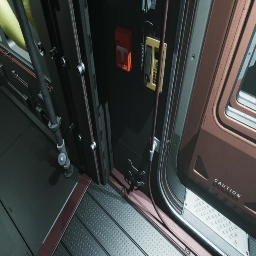EmergencyPhone ,: (140, 21, 168, 94)
FireAlarm ,: (115, 26, 131, 72)
